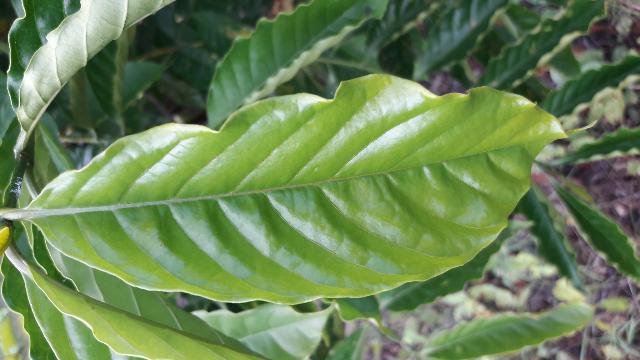healthy: (10, 74, 572, 303)
